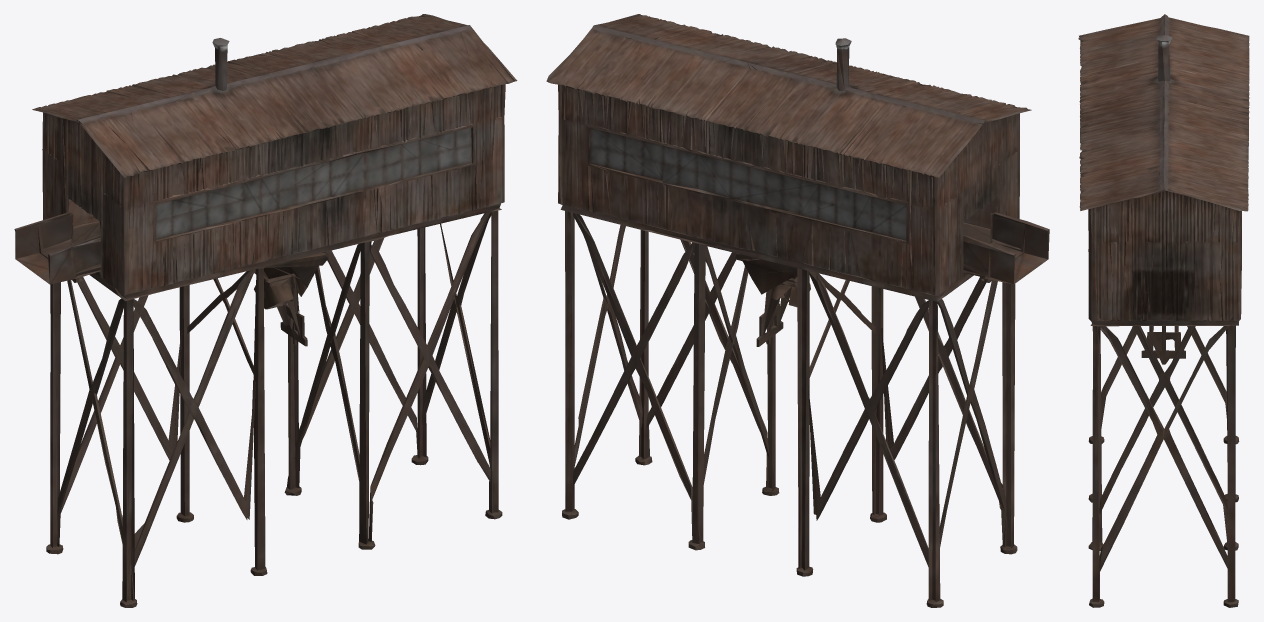
Rendered from screening_house_siebhaus.glb.
3 renders of one model, left to right at view 1: azimuth 30°, elevation 25°; view 2: azimuth 150°, elevation 25°; view 3: azimuth 270°, elevation 25°, orthographic. The views are drawn at different scales.
Parts seen in each view (by area): view 1: main; view 2: main; view 3: main.
Boxes of the visible parts, x1=… form: main: x1=14, y1=14, x2=517, y2=607; main: x1=546, y1=14, x2=1049, y2=607; main: x1=1078, y1=14, x2=1249, y2=607.
Size of the model in its own units: 11.73 by 12.9 by 4.3.
Materials: 1 (1 with a texture image).
